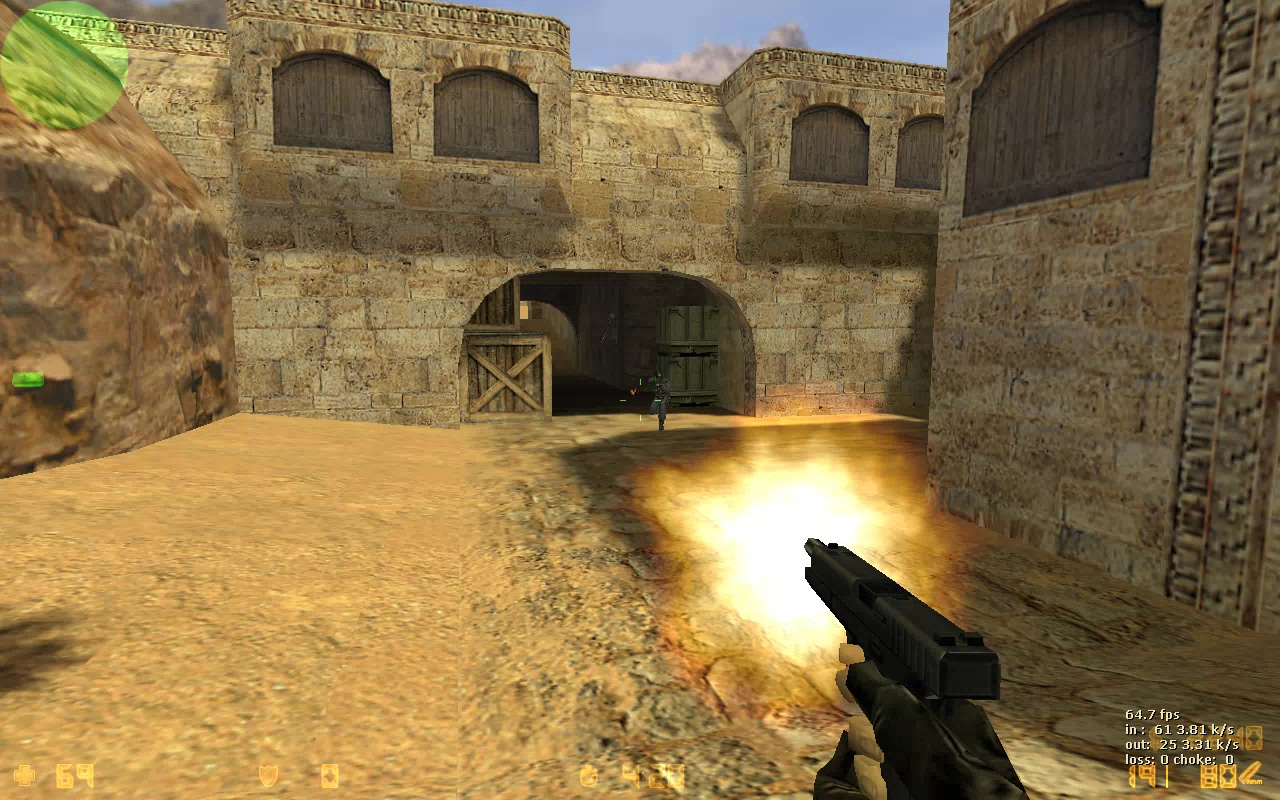ct: (642, 372, 674, 432)
